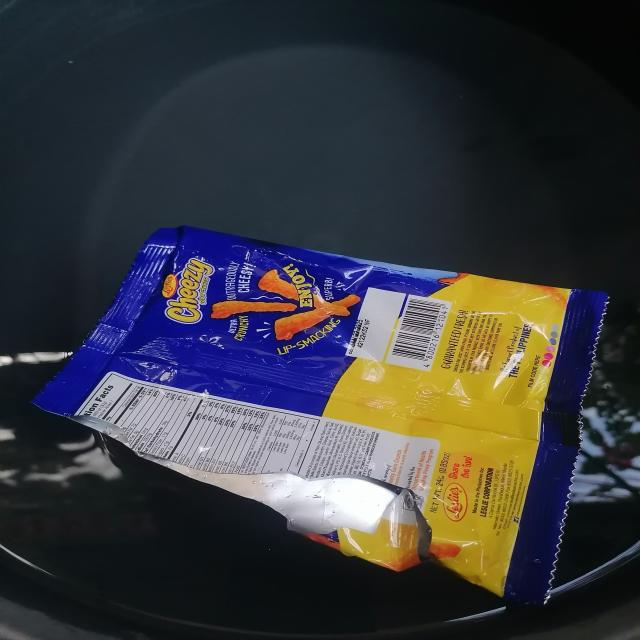Plastic Wrapper: (19, 195, 640, 640)
